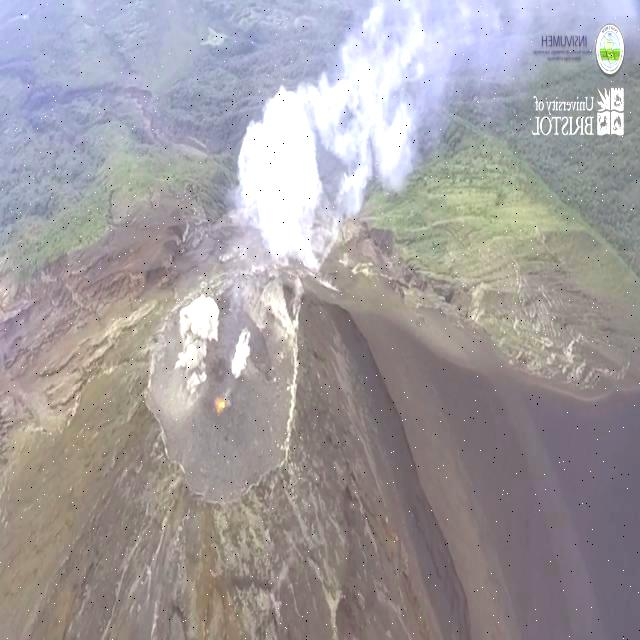Plume: (226, 0, 542, 267)
Summit: (116, 268, 352, 557)
